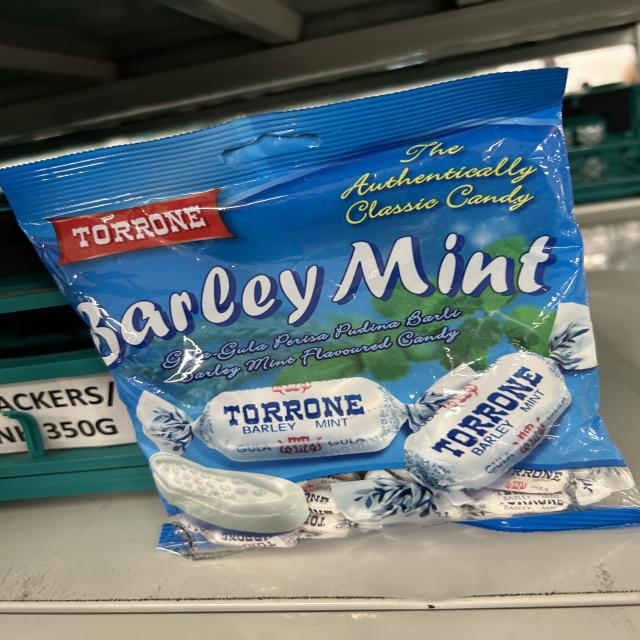object_name: (138, 103, 629, 556)
